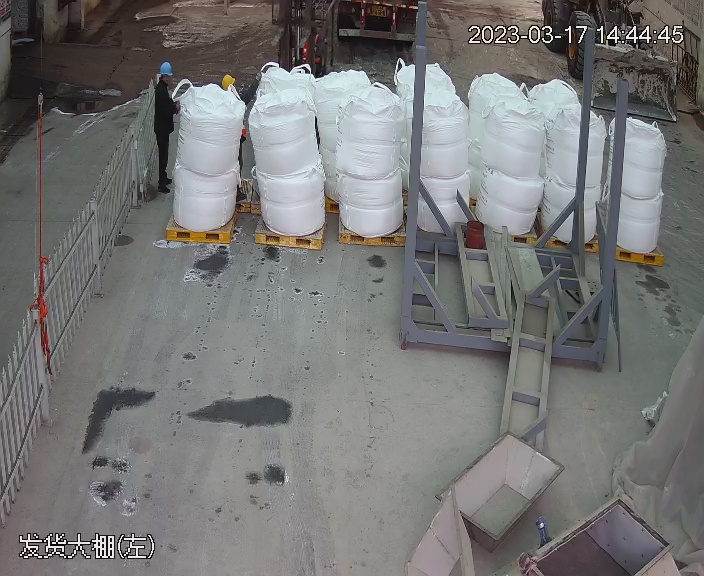head: (151, 60, 177, 105)
helmet: (221, 73, 237, 91), (156, 60, 174, 76)
people: (148, 57, 182, 197)
